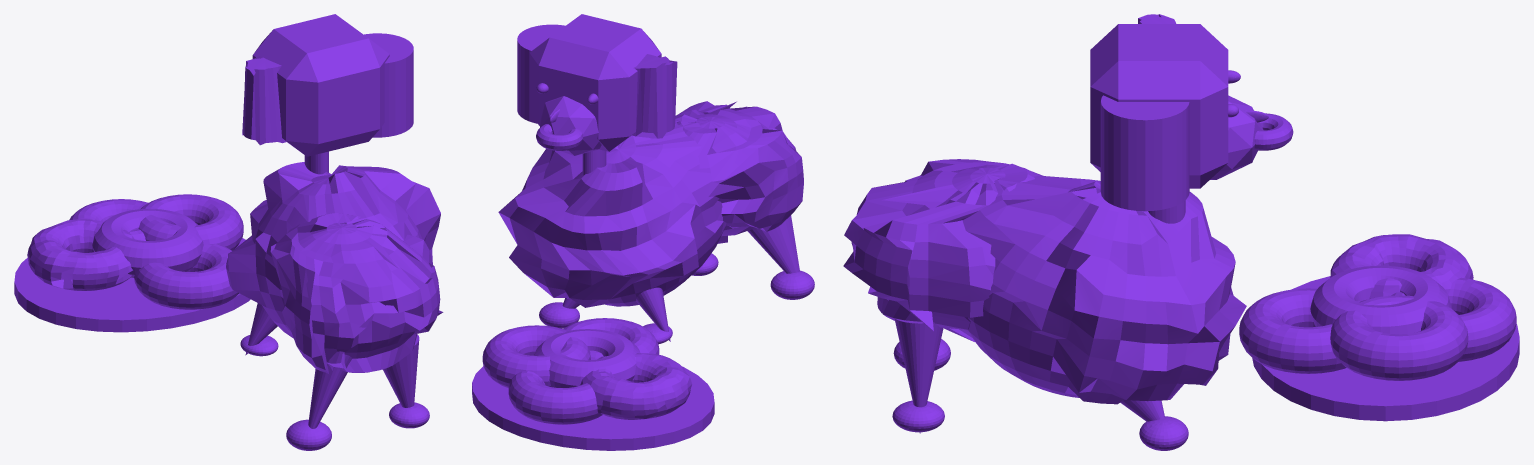
Rendered from purple.glb.
3 views of the same model, side by side, from view 1: azimuth 30°, elevation 25°; view 2: azimuth 150°, elevation 25°; view 3: azimuth 270°, elevation 25° (orthographic). The views are drawn at different scales.
Visible parts, largest first — view 1: Mesh_0; view 2: Mesh_0; view 3: Mesh_0.
Part boxes in pixels (x1,y1,x2,y2): Mesh_0: (14,14,443,450); Mesh_0: (472,14,814,450); Mesh_0: (843,14,1519,450).
Size of the model in its own units: 4.44 by 4.63 by 7.19.
